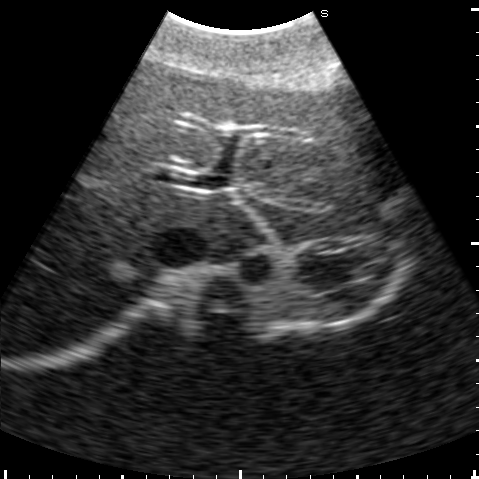IVC: (147, 227, 211, 268)
S1: (204, 196, 263, 260)
S2: (240, 175, 407, 247)
S3: (228, 78, 401, 205)
